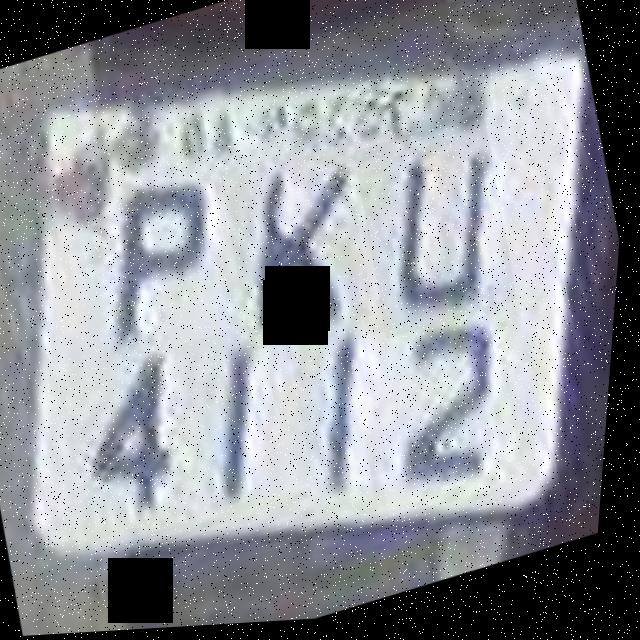1: (175, 324, 300, 514), (284, 321, 406, 499)
2: (352, 303, 542, 526)
4: (52, 325, 214, 540)
K: (212, 137, 390, 357)
P: (73, 152, 250, 369)
U: (344, 115, 533, 345)
